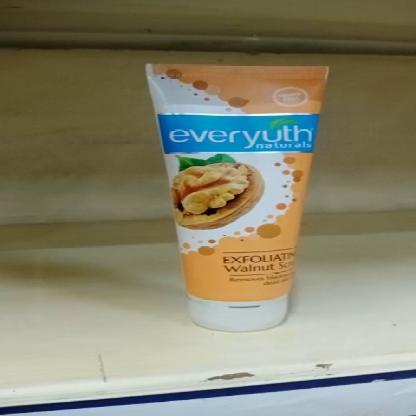EY EXF WALNUT SCRUB AYR 200G: (143, 62, 326, 331)
